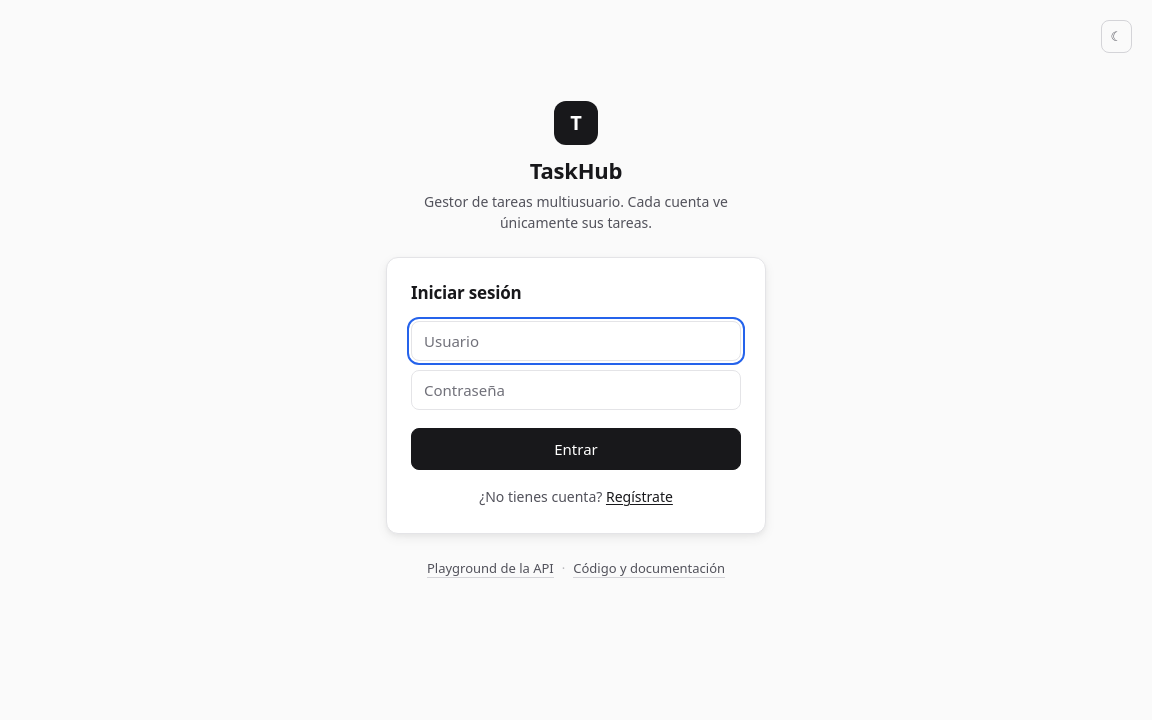
Test case: qué pantalla se ve › con sesión, la lista de tareas
Type "juan" into the field labelled "Usuario".
click(576, 341); type("juan")  # box [411, 321, 741, 361]
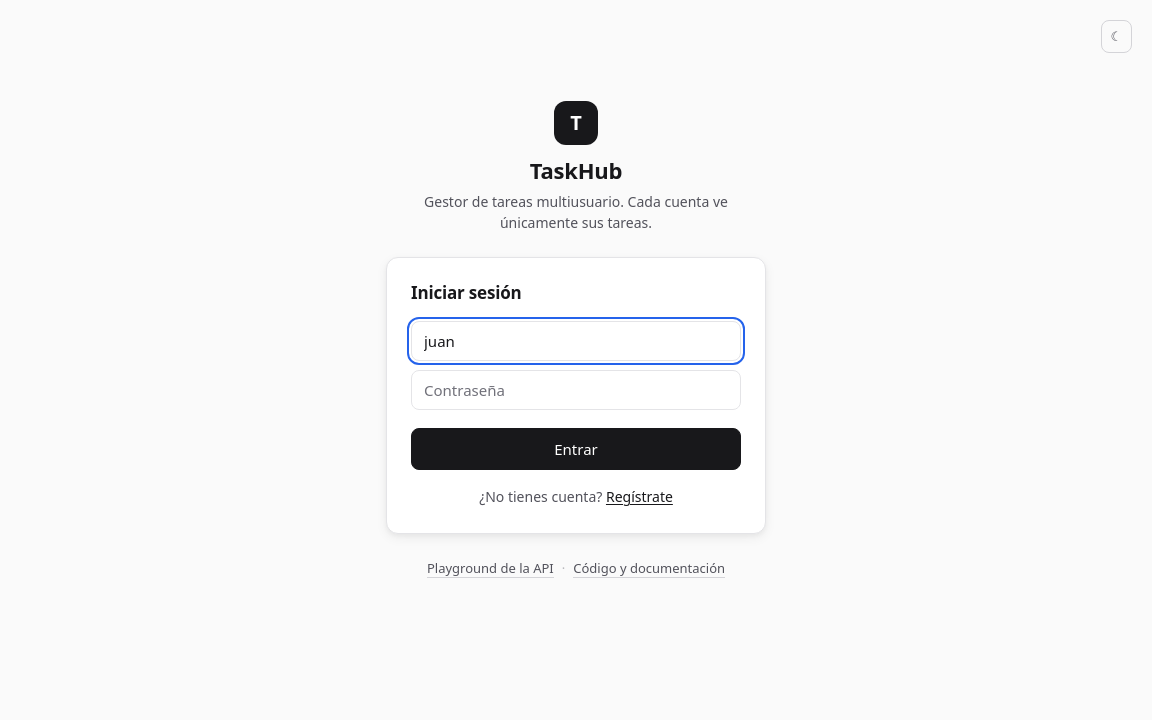
Type "Cafe con leche y 2 tostadas!" into the password field labelled "Contraseña".
click(576, 390); type("Cafe con leche y 2 tostadas!")  # box [411, 370, 741, 410]
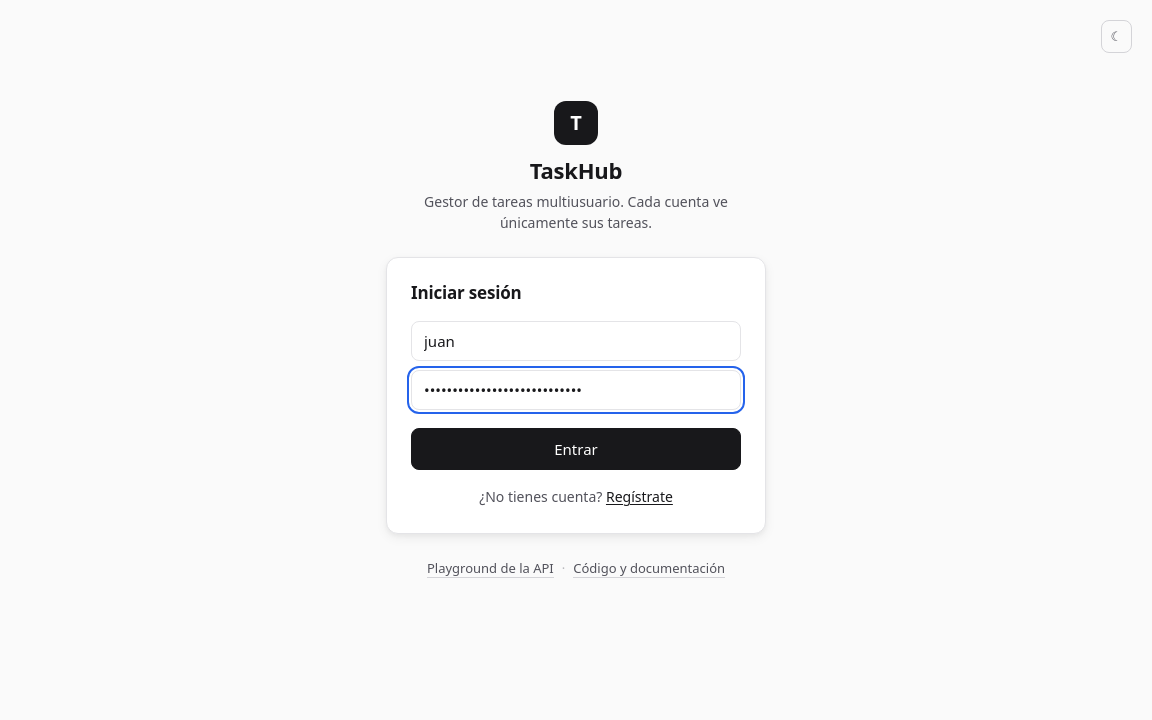
Click the button "Entrar".
click(576, 449)  # box [411, 428, 741, 470]
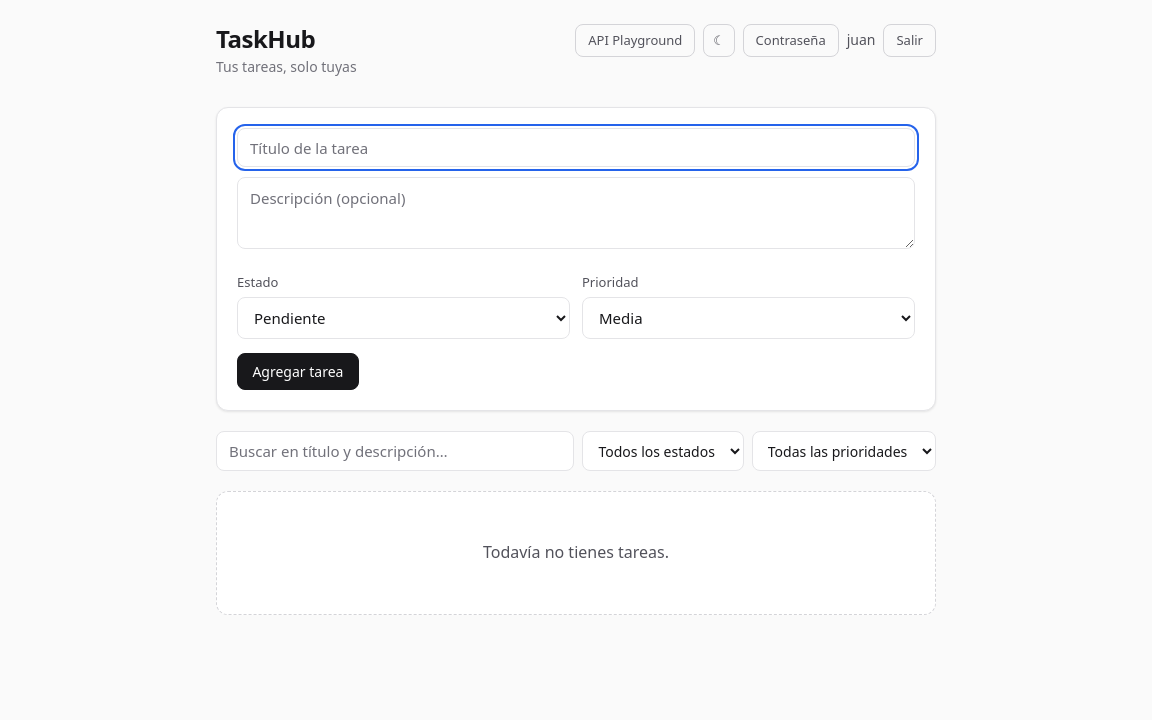
Expected: the button "Salir" is shown, [884, 24, 936, 57]
Expected: the text labelled "usuario" is gone
